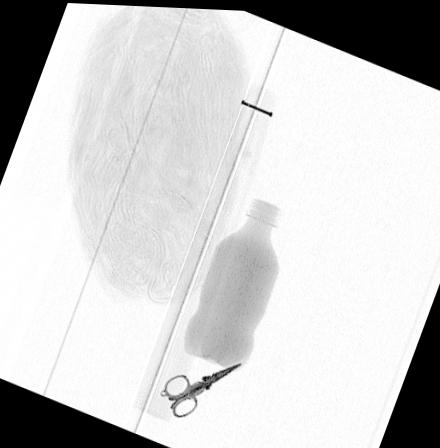Scissors: (158, 359, 245, 416)
